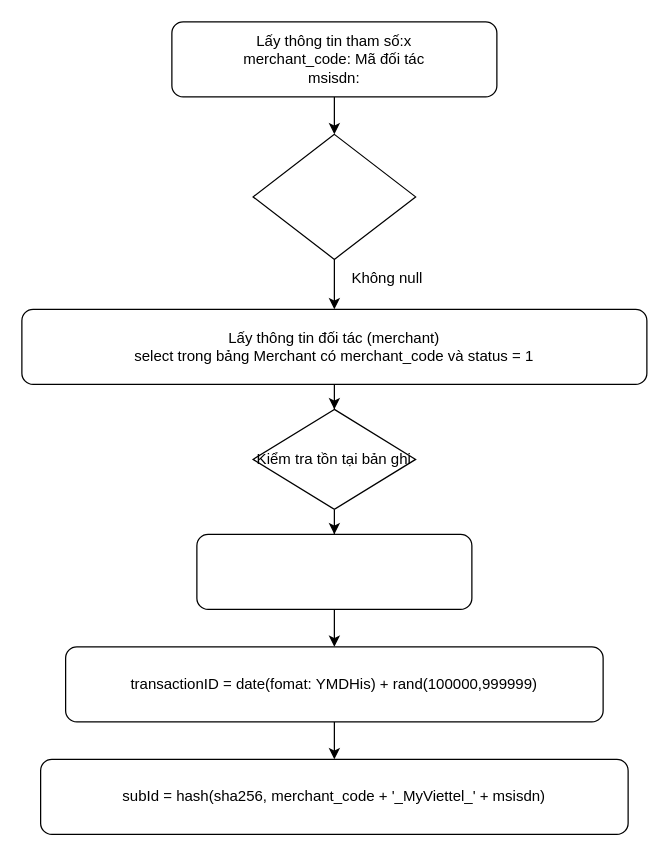
Image size: 669x856. Some labels were removed from this diagram. Here are the shapes that lost their labels. From the top down, the centre of each, then its label:
At [334,196]: "Kiểm tra merchant_code null".
At [334,571]: "set biến url = merchant.connectUrl".
